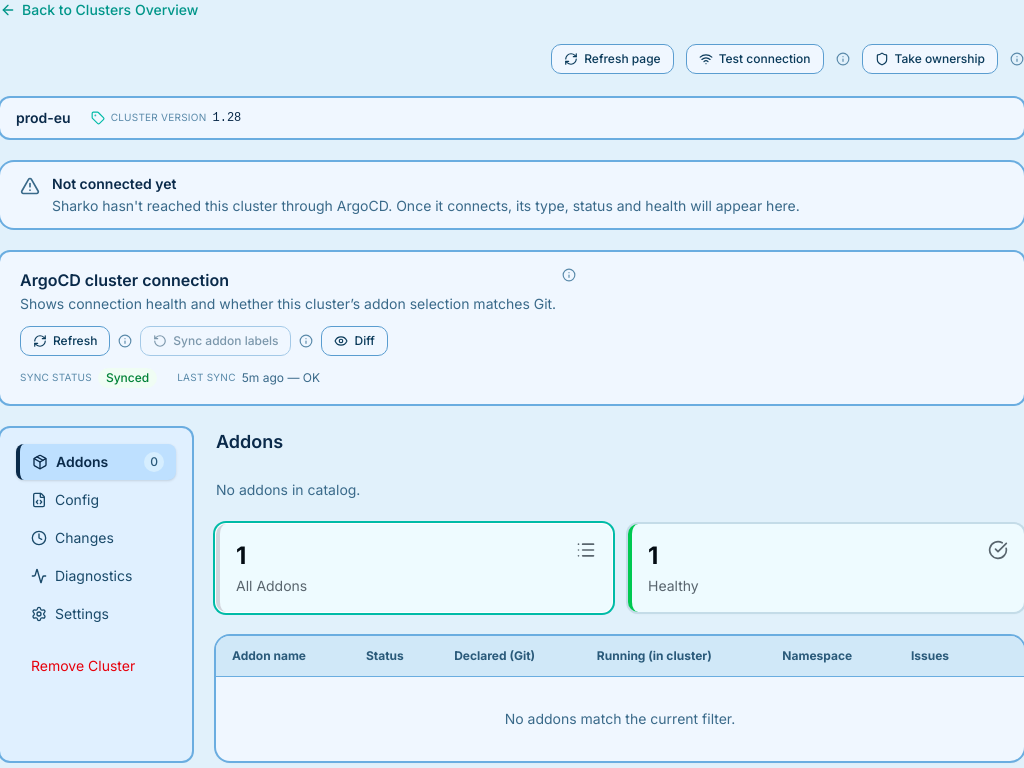
Test: ClusterDetail — Re-sync now (v4-8-5) › the nothing-to-apply hint is the SHARED sentence, pinned by exact text, and the old one is gone
Expected: the heading "prod-eu" is shown, [16,108,71,128]
Step 1. Click the button named "What does Sync addon labels do?" → click(306, 341), box [300,334,314,348]
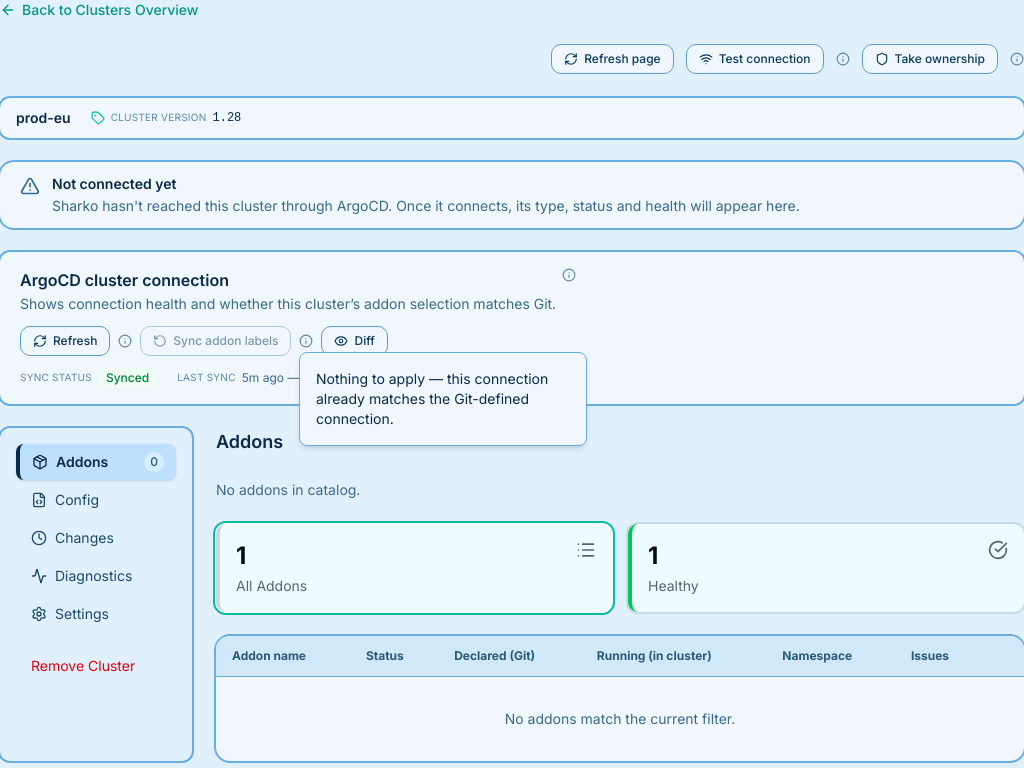
Now the text "Nothing to apply — this connection already matches the Git-defined connection." is shown, box [299,352,587,446]
